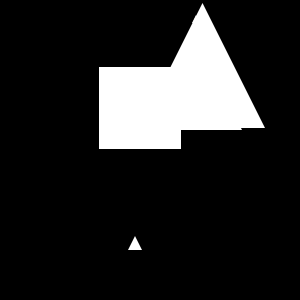circle: (99, 67, 181, 149)
triangle: (140, 3, 265, 128), (141, 29, 242, 130), (128, 236, 142, 250), (192, 15, 200, 23)
